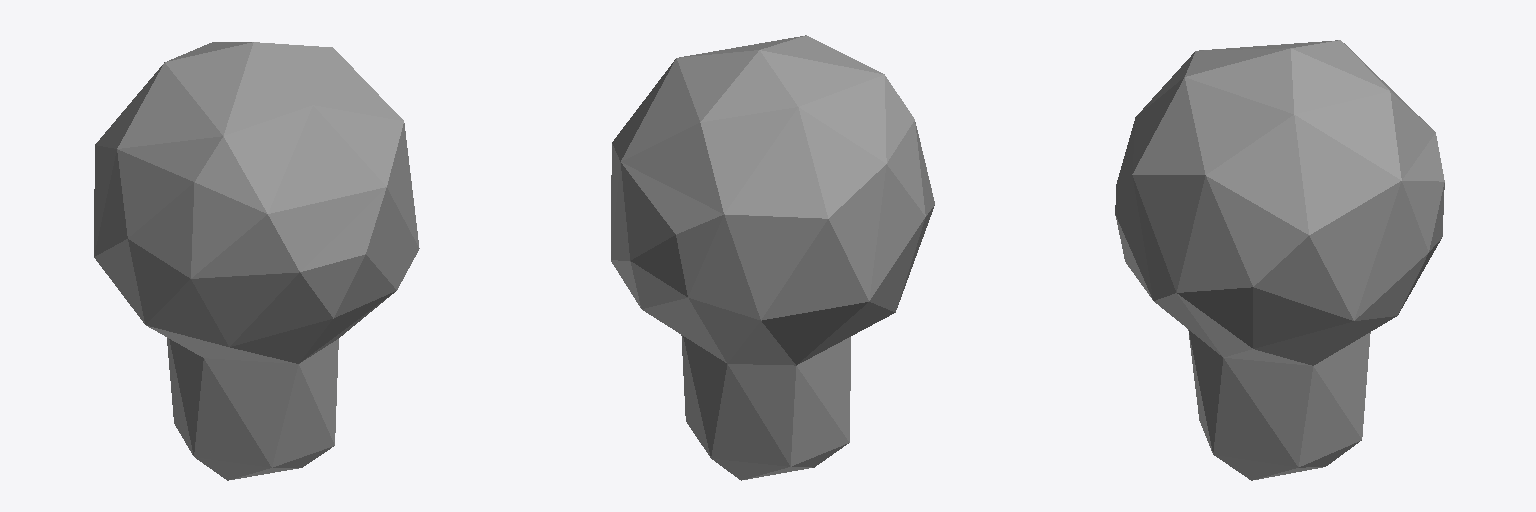
File: light.obj
3 views of the same model, side by side, from view 1: azimuth 30°, elevation 25°; view 2: azimuth 150°, elevation 25°; view 3: azimuth 270°, elevation 25° (orthographic).
Parts seen in each view (by area): view 1: Body1.001; view 2: Body1.001; view 3: Body1.001.
Boxes of the visible parts, x1=… form: Body1.001: x1=94, y1=42, x2=419, y2=480; Body1.001: x1=611, y1=35, x2=934, y2=480; Body1.001: x1=1115, y1=40, x2=1444, y2=480.
Bounding box in the file's own units: 0.2005 × 0.2803 × 0.2001.